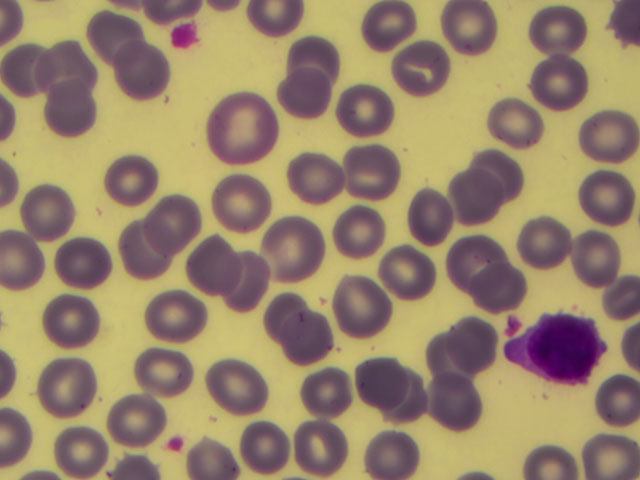Platelets: (168, 24, 206, 48), (167, 437, 183, 455)
RBC: (47, 85, 102, 140), (4, 40, 59, 95), (42, 40, 97, 95), (93, 3, 148, 58), (119, 43, 174, 98), (217, 104, 272, 159), (270, 67, 325, 122), (294, 27, 349, 82), (337, 83, 392, 138), (392, 42, 447, 97), (448, 1, 503, 56), (528, 51, 583, 106), (529, 6, 584, 61), (490, 89, 545, 144), (584, 106, 639, 161), (585, 172, 640, 227), (518, 213, 573, 268), (573, 226, 628, 281), (470, 258, 525, 313), (447, 236, 502, 291), (404, 183, 459, 238), (446, 172, 501, 227), (472, 143, 527, 198), (341, 144, 396, 199), (285, 153, 340, 208), (213, 175, 268, 230), (145, 191, 200, 246), (121, 227, 176, 282), (105, 151, 160, 206), (26, 183, 81, 238), (54, 234, 109, 289), (42, 296, 97, 351), (40, 363, 95, 418), (48, 424, 103, 479), (107, 393, 162, 448), (136, 340, 191, 395), (147, 289, 202, 344), (183, 238, 238, 293), (221, 252, 276, 307), (264, 218, 319, 273), (262, 288, 317, 343), (285, 313, 340, 368), (203, 362, 258, 417), (239, 418, 294, 473), (189, 425, 244, 480), (296, 421, 351, 476), (296, 368, 351, 423), (360, 358, 415, 413), (384, 376, 439, 431), (358, 425, 413, 480), (429, 376, 484, 431), (421, 331, 476, 386), (444, 319, 499, 374), (331, 283, 386, 338), (384, 244, 439, 299), (331, 205, 386, 260), (520, 425, 575, 480), (585, 425, 640, 480), (357, 1, 412, 55), (597, 375, 640, 429), (597, 274, 640, 328)
WBC: (507, 311, 609, 386)
